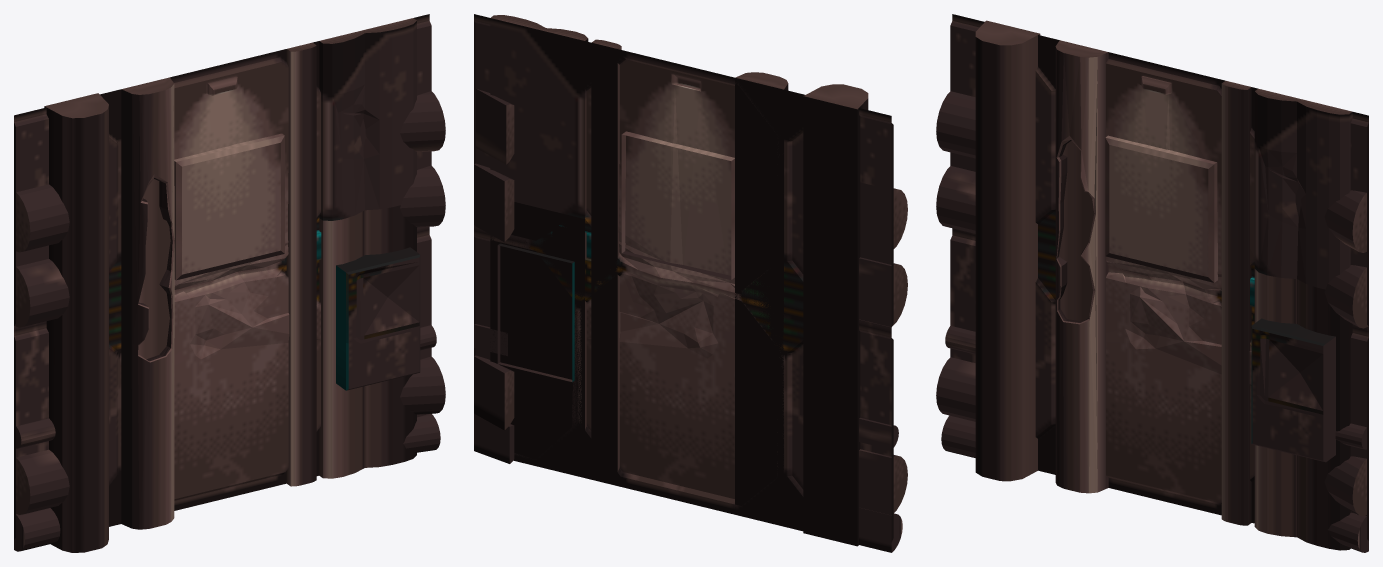
File: eng1_1d.fbx
The picture shows the model from 3 angles, left to right: view 1: azimuth 30°, elevation 25°; view 2: azimuth 150°, elevation 25°; view 3: azimuth 330°, elevation 25°; orthographic projection.
Visible parts, largest first — view 1: eng1_1d_mesh, eng1_1d_background.001, eng1_1_mesh_boxes, eng1_1d_background, eng1_2_pipes; view 2: eng1_1d_mesh, eng1_1d_background.001, eng1_1d_background, eng1_2_pipes, eng1_1_mesh_boxes; view 3: eng1_1d_mesh, eng1_1d_background.001, eng1_1_mesh_boxes, eng1_1d_background, eng1_2_pipes.
Part boxes in pixels (left/top/right/bottom): eng1_1d_mesh: left=44, top=18, right=416, bottom=552; eng1_1d_background.001: left=14, top=14, right=431, bottom=551; eng1_1_mesh_boxes: left=174, top=133, right=420, bottom=390; eng1_1d_background: left=174, top=62, right=320, bottom=375; eng1_2_pipes: left=15, top=91, right=445, bottom=550; eng1_1d_mesh: left=490, top=15, right=868, bottom=546; eng1_1d_background.001: left=474, top=14, right=907, bottom=552; eng1_1d_background: left=586, top=59, right=741, bottom=374; eng1_2_pipes: left=474, top=88, right=907, bottom=545; eng1_1_mesh_boxes: left=497, top=131, right=734, bottom=382; eng1_1d_mesh: left=975, top=20, right=1352, bottom=550; eng1_1d_background.001: left=950, top=14, right=1368, bottom=540; eng1_1_mesh_boxes: left=1105, top=135, right=1335, bottom=462; eng1_1d_background: left=1106, top=64, right=1254, bottom=386; eng1_2_pipes: left=936, top=91, right=1368, bottom=552.
Size of the model in its own units: 256 by 256 by 31.86.
